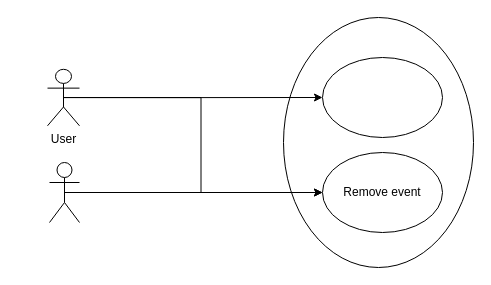
The diagram is 491 pixels wide and 285 high, and some of its shapes have lost their labels. Each missing label, with the centre of its shape:
Create event: point (382, 97)
Vox Server Admin: point (64, 192)
